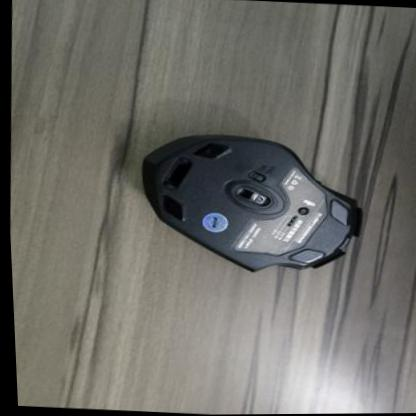mouserotation: (131, 130, 367, 281)
